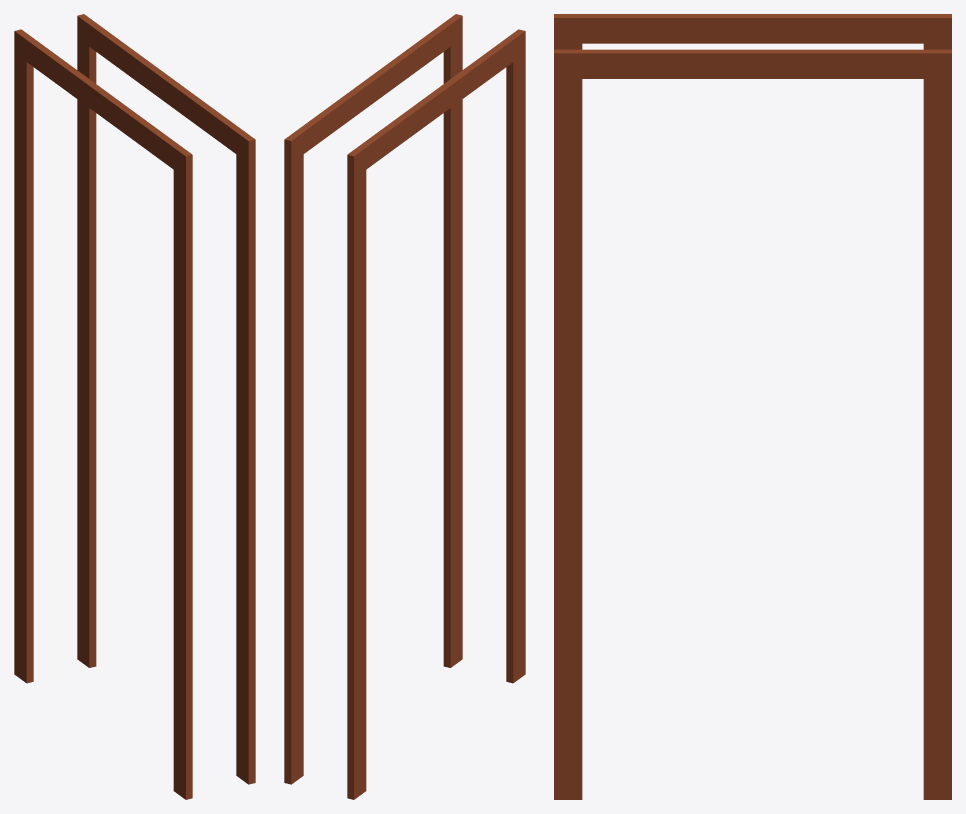
Rendered from 3X414Lh312cfMiVfxwG26R.dae.
The picture shows the model from 3 angles, left to right: view 1: azimuth 30°, elevation 25°; view 2: azimuth 150°, elevation 25°; view 3: azimuth 270°, elevation 25°; orthographic projection. The views are drawn at different scales.
Parts seen in each view (by area): view 1: product-e1101115-ac30-429a-95ac-7e9efa40219b-body; view 2: product-e1101115-ac30-429a-95ac-7e9efa40219b-body; view 3: product-e1101115-ac30-429a-95ac-7e9efa40219b-body.
Part boxes in pixels (<box>): product-e1101115-ac30-429a-95ac-7e9efa40219b-body: <box>14,14,255,799</box>; product-e1101115-ac30-429a-95ac-7e9efa40219b-body: <box>284,14,525,799</box>; product-e1101115-ac30-429a-95ac-7e9efa40219b-body: <box>554,14,951,799</box>.
Size of the model in its own units: 0.2504 by 1.07 by 2.21.
